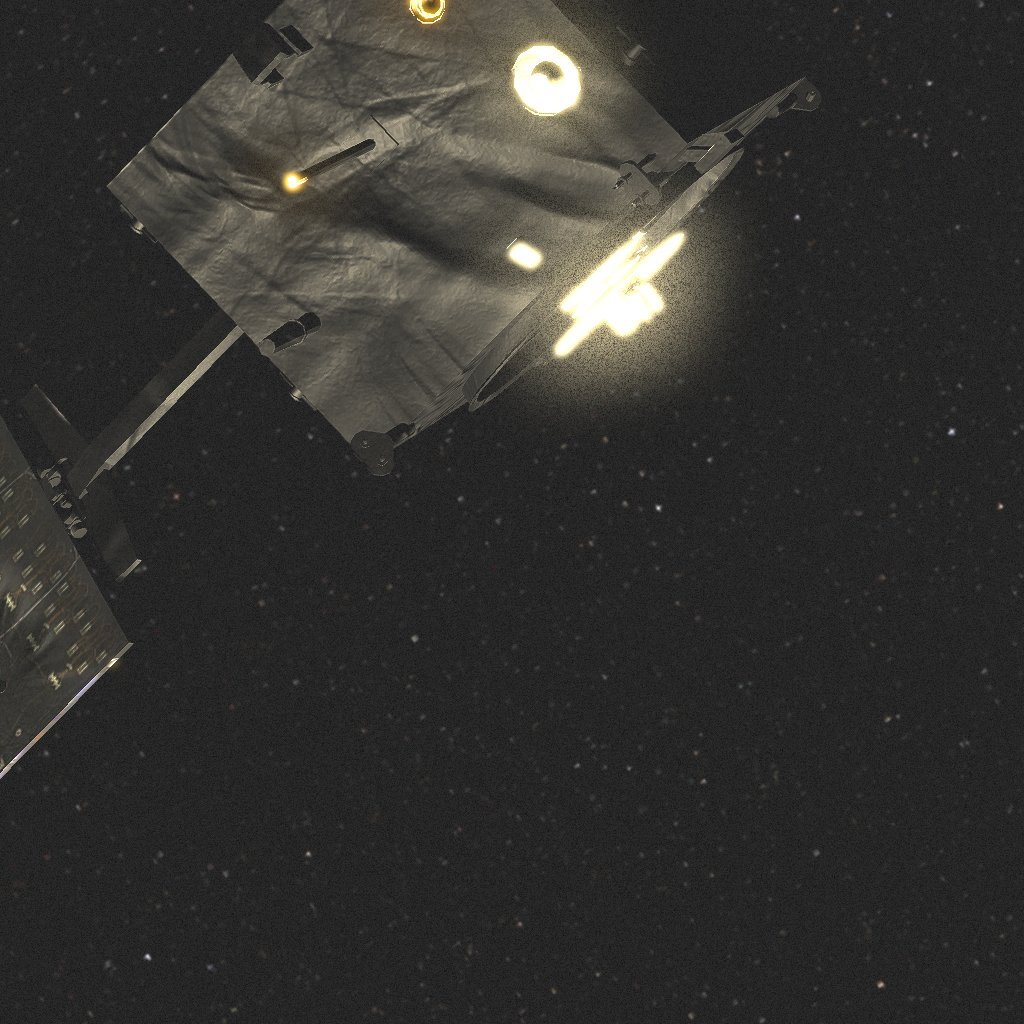smart_1: (8, 10, 761, 745)
